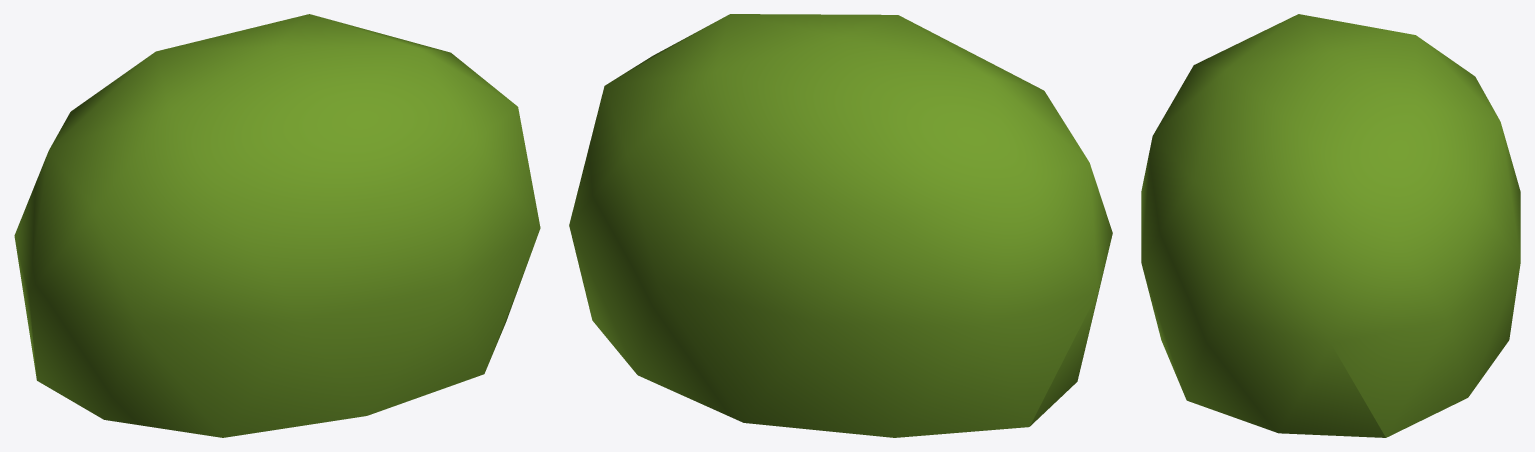
File: Bush.fbx
3 renders of one model, left to right at view 1: azimuth 30°, elevation 25°; view 2: azimuth 150°, elevation 25°; view 3: azimuth 270°, elevation 25°, orthographic. The views are drawn at different scales.
Visible parts, largest first — view 1: Icosphere.340; view 2: Icosphere.340; view 3: Icosphere.340.
Boxes of the visible parts, bbox=[...] form: Icosphere.340: bbox=[14, 14, 540, 437]; Icosphere.340: bbox=[569, 14, 1112, 437]; Icosphere.340: bbox=[1141, 14, 1520, 437].
Size of the model in its own units: 46.02 by 26.88 by 32.11.
